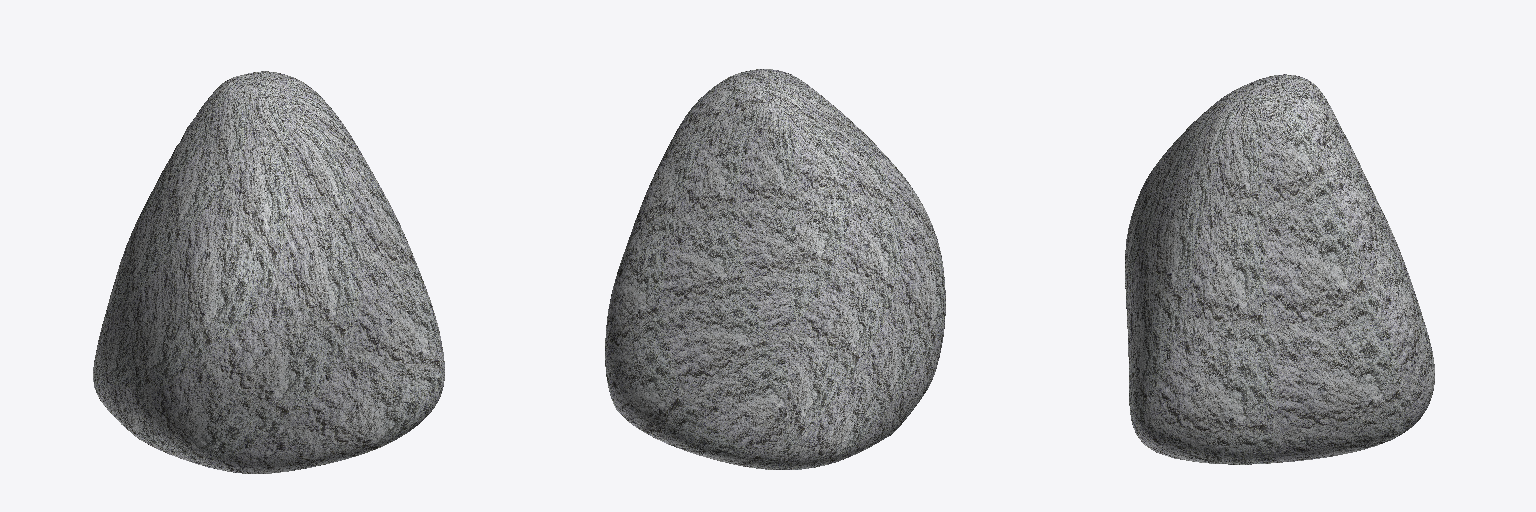
3 renders of one model, left to right at view 1: azimuth 30°, elevation 25°; view 2: azimuth 150°, elevation 25°; view 3: azimuth 270°, elevation 25°, orthographic.
Parts seen in each view (by area): view 1: firepit_rocks:Firepit; view 2: firepit_rocks:Firepit; view 3: firepit_rocks:Firepit.
Part boxes in pixels (x1,y1,x2,y2): firepit_rocks:Firepit: (93, 71, 444, 473); firepit_rocks:Firepit: (605, 69, 945, 469); firepit_rocks:Firepit: (1125, 74, 1434, 464).
Size of the model in its own units: 2.47 by 2.97 by 2.37.
1 materials, 1 textured.